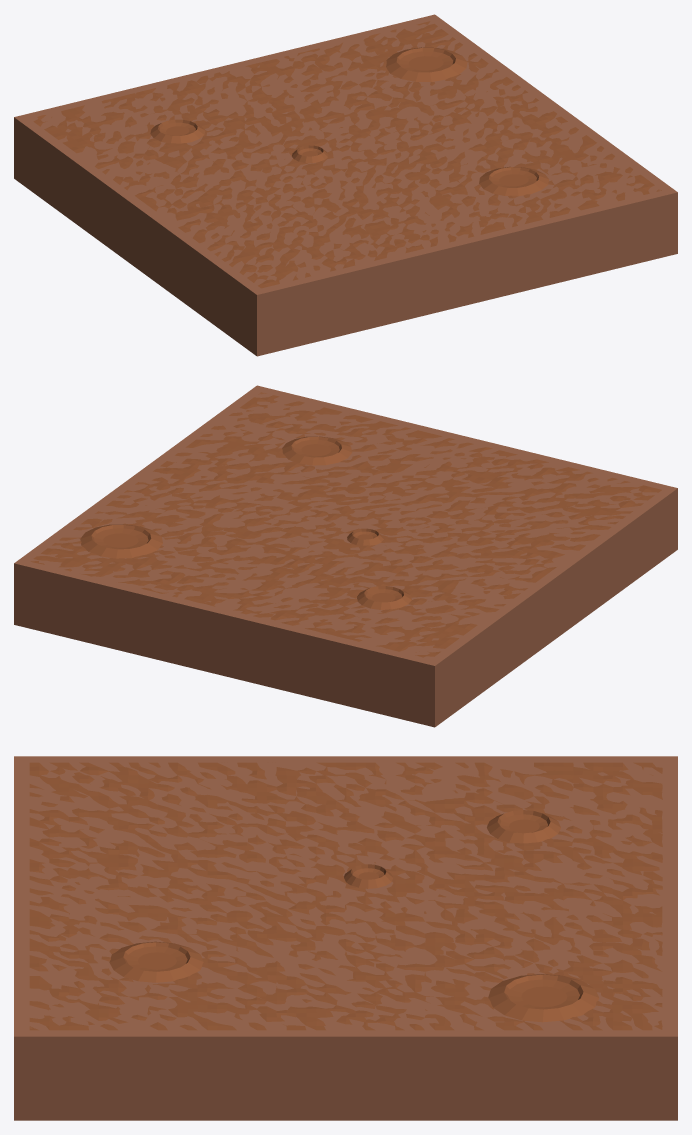
The model's file is Trapphist_1e_ground.glb.
3 views of the same model, one above another, from view 1: azimuth 30°, elevation 25°; view 2: azimuth 150°, elevation 25°; view 3: azimuth 270°, elevation 25° (orthographic). The views are drawn at different scales.
Parts seen in each view (by area): view 1: Plane.001, Plane, Circle.002, Circle, Circle.001, Circle.003; view 2: Plane.001, Plane, Circle.002, Circle, Circle.001, Circle.003; view 3: Plane.001, Plane, Circle.002, Circle, Circle.001, Circle.003.
Part boxes in pixels (left/top/right/bottom): Plane.001: left=14, top=14, right=677, bottom=356; Plane: left=33, top=21, right=661, bottom=288; Circle.002: left=386, top=47, right=467, bottom=81; Circle: left=479, top=166, right=549, bottom=196; Circle.001: left=150, top=119, right=205, bottom=143; Circle.003: left=292, top=145, right=328, bottom=163; Plane.001: left=14, top=385, right=677, bottom=727; Plane: left=30, top=392, right=661, bottom=657; Circle.002: left=80, top=524, right=162, bottom=558; Circle: left=282, top=436, right=352, bottom=465; Circle.001: left=357, top=586, right=411, bottom=609; Circle.003: left=347, top=528, right=383, bottom=545; Plane.001: left=14, top=756, right=677, bottom=1120; Plane: left=29, top=762, right=662, bottom=1030; Circle.002: left=488, top=974, right=599, bottom=1022; Circle: left=109, top=941, right=203, bottom=982; Circle.001: left=487, top=810, right=560, bottom=843; Circle.003: left=344, top=864, right=392, bottom=888.
Bounding box in the file's own units: 128 × 19.16 × 128.
